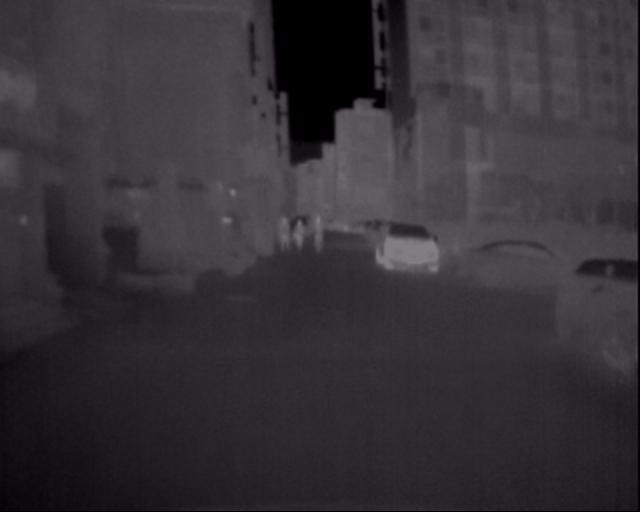person: (305, 221, 330, 264), (276, 217, 297, 264), (291, 221, 311, 261)
